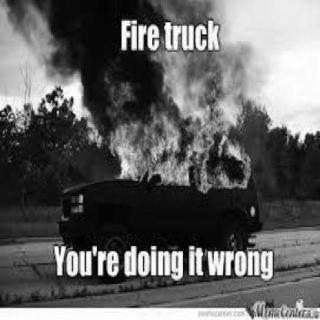Fire: (103, 66, 251, 190)
